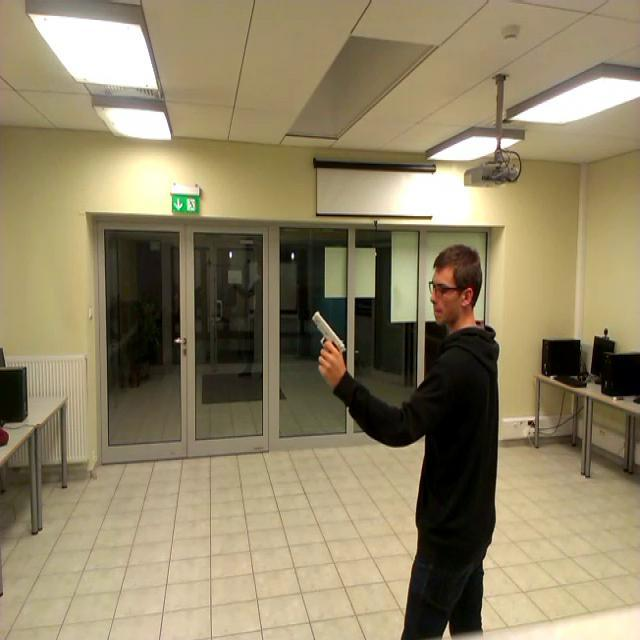Gun: (312, 310, 348, 368)
